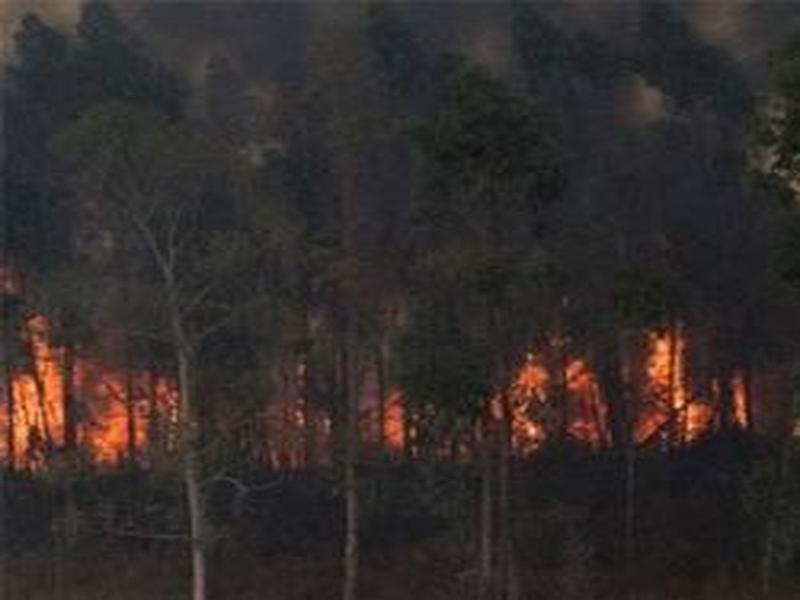FIRE: (9, 342, 745, 494)
